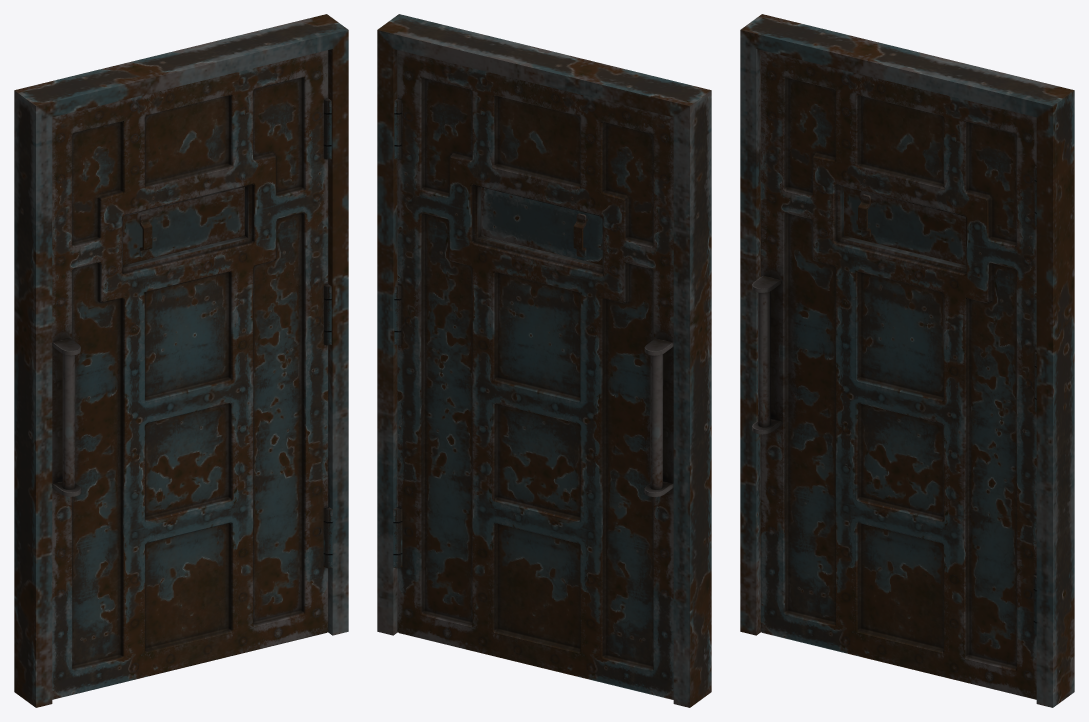
File: Steel_Door_1_A.glb
The picture shows the model from 3 angles, left to right: view 1: azimuth 30°, elevation 25°; view 2: azimuth 150°, elevation 25°; view 3: azimuth 330°, elevation 25°; orthographic projection.
Visible parts, largest first — view 1: Door, Door_Frame, Door_Window; view 2: Door, Door_Frame, Door_Window; view 3: Door, Door_Frame, Door_Window.
Boxes of the visible parts, <box> form: Door: <box>52,50,332,699</box>; Door_Frame: <box>14,14,348,707</box>; Door_Window: <box>123,187,244,265</box>; Door: <box>393,50,673,699</box>; Door_Frame: <box>377,14,711,707</box>; Door_Window: <box>481,187,602,265</box>; Door: <box>752,50,1036,699</box>; Door_Frame: <box>740,14,1074,707</box>; Door_Window: <box>844,187,965,265</box>.
Size of the model in its own units: 1.12 by 2.05 by 0.2792.
Materials: 1 (1 with a texture image).
